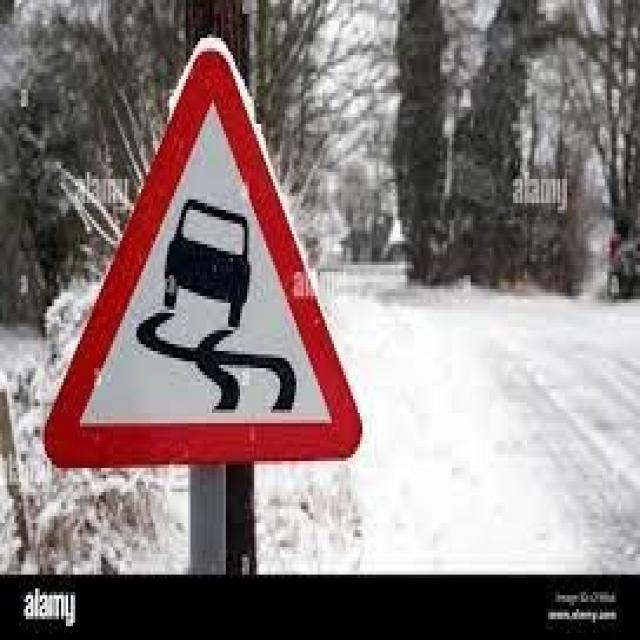road_slippery: (45, 53, 364, 472)
